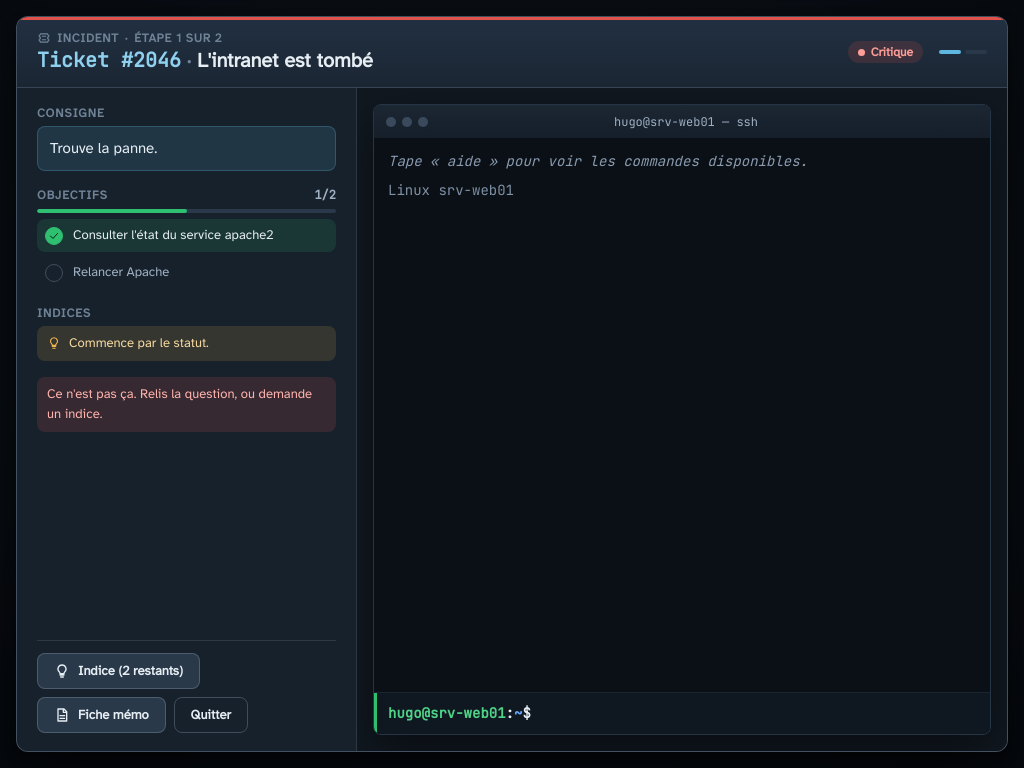
Test: <MissionWindow> › affiche les indices révélés, la fiche, et le retour du moteur
The width and height of the screenshot is (1024, 768).
Expected: the text "Commence par le statut." is shown, x1=69 y1=334 x2=209 y2=353
Expected: the text "Ce n'est pas ça. Relis la question, ou demande un indice." is shown, x1=37 y1=377 x2=336 y2=432
Click the button "Fiche mémo" at (101, 715), box x1=37 y1=697 x2=166 y2=733
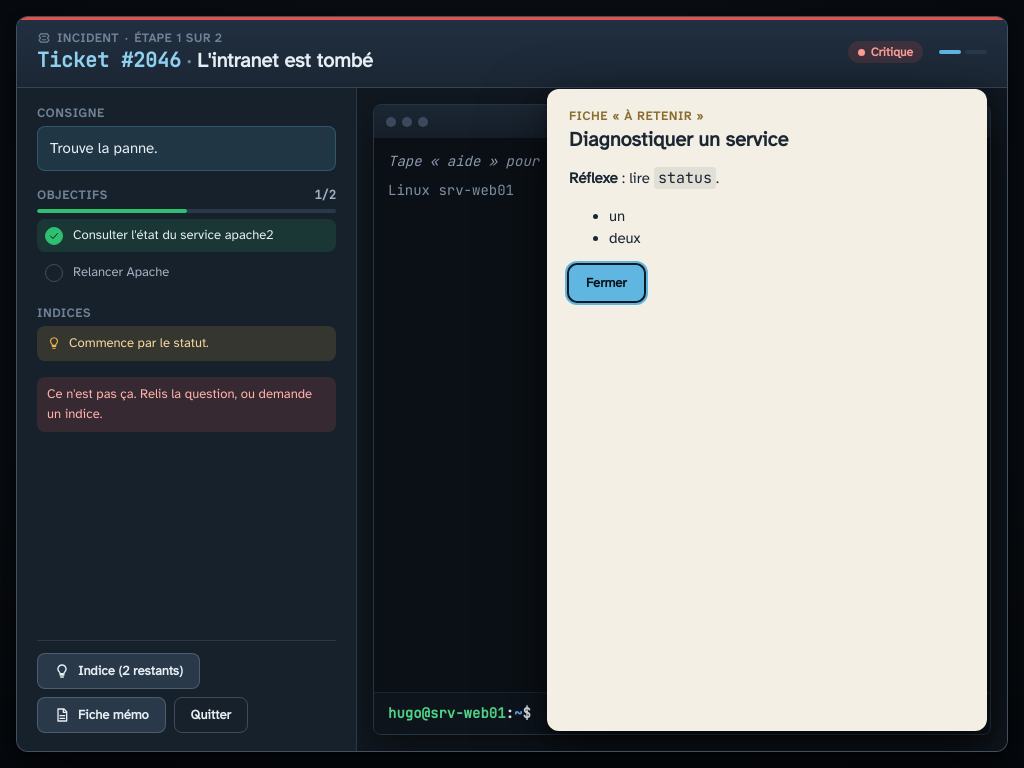
Now the dialog "Diagnostiquer un service" is shown, box x1=547 y1=89 x2=987 y2=731
Now the text "status" is shown, box x1=654 y1=167 x2=716 y2=189
Now the list item "deux" is shown, box x1=609 y1=229 x2=640 y2=247
Click the button "Fermer" at (606, 282), box x1=569 y1=264 x2=644 y2=300
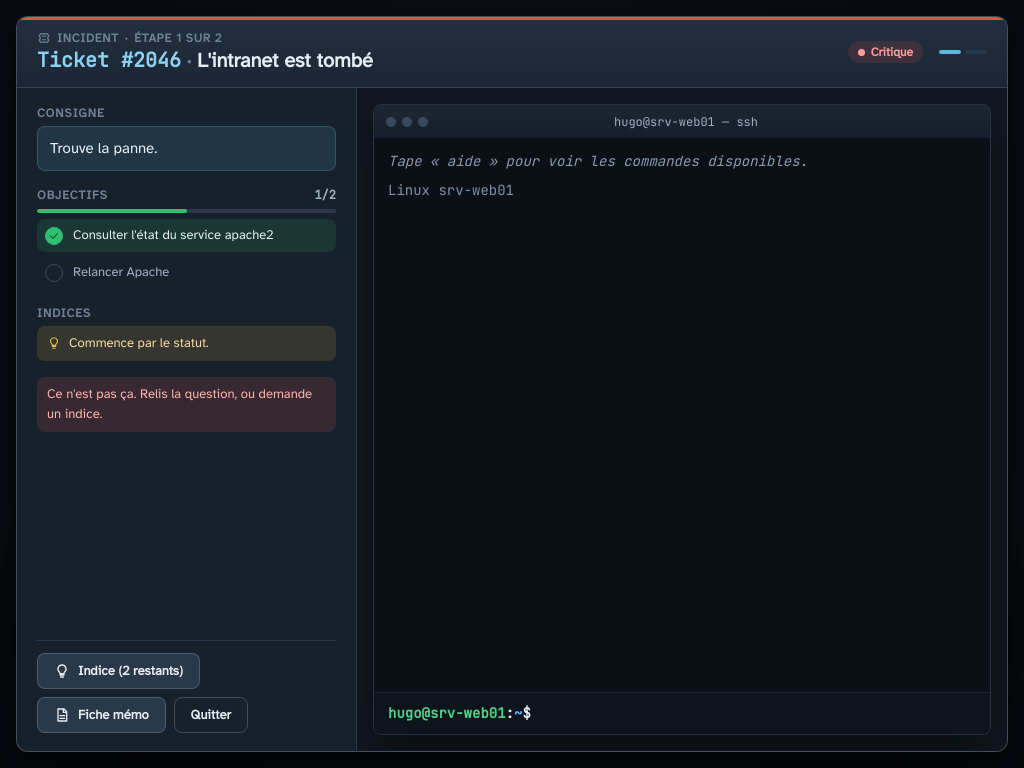
Now the heading "Diagnostiquer" is gone
